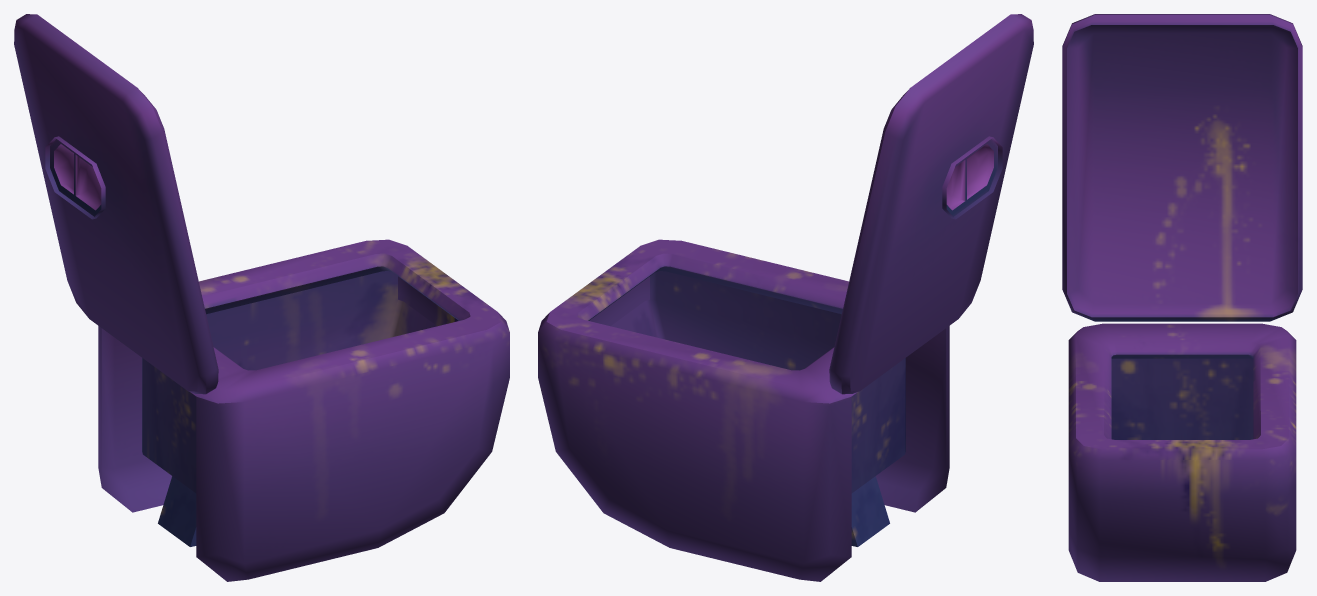
File: PROP_015_Toilet.fbx
The picture shows the model from 3 angles, left to right: view 1: azimuth 30°, elevation 25°; view 2: azimuth 150°, elevation 25°; view 3: azimuth 270°, elevation 25°; orthographic projection. The views are drawn at different scales.
Visible parts, largest first — view 1: toilet, tapa; view 2: toilet, tapa; view 3: tapa, toilet.
Boxes of the visible parts, bbox=[...] form: toilet: bbox=[45, 136, 509, 581]; tapa: bbox=[14, 14, 218, 394]; toilet: bbox=[538, 136, 1002, 581]; tapa: bbox=[829, 14, 1033, 394]; tapa: bbox=[1062, 14, 1302, 321]; toilet: bbox=[1068, 323, 1296, 581].
Bounding box in the file's own units: 98.08 × 126 × 60.29.
Materials: 1 (1 with a texture image).
